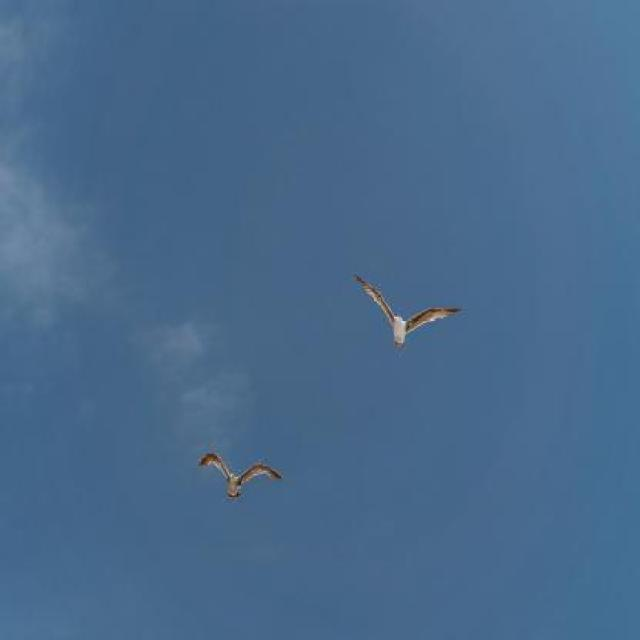bird: (355, 272, 463, 351), (196, 452, 284, 498)
